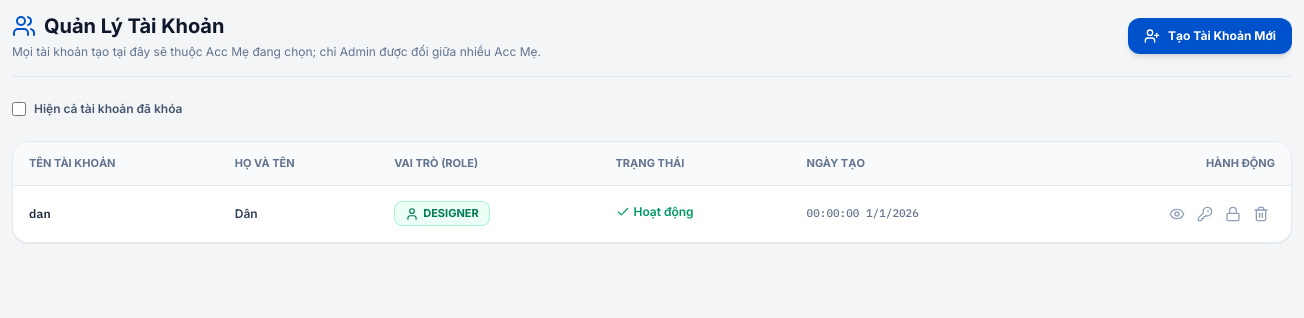
Test: UsersPage › hides locked accounts by default and shows them when the checkbox is checked
Expected: the text "dan" is shown, [13,185,219,242]
Expected: the text "tram" is not shown
Click the checkbox labelled "Hiện cả tài khoản đã khóa": {"x": 19, "y": 109} [12,102,26,116]
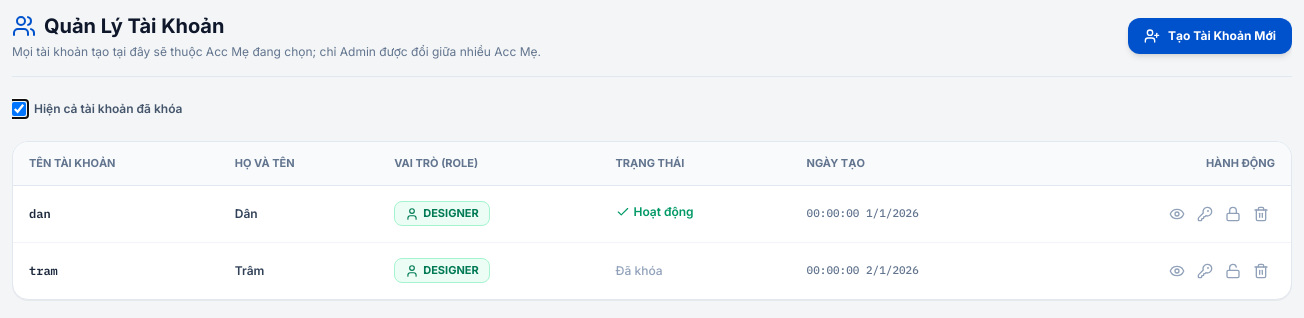
Now the text "tram" is shown, box [13,242,219,299]
